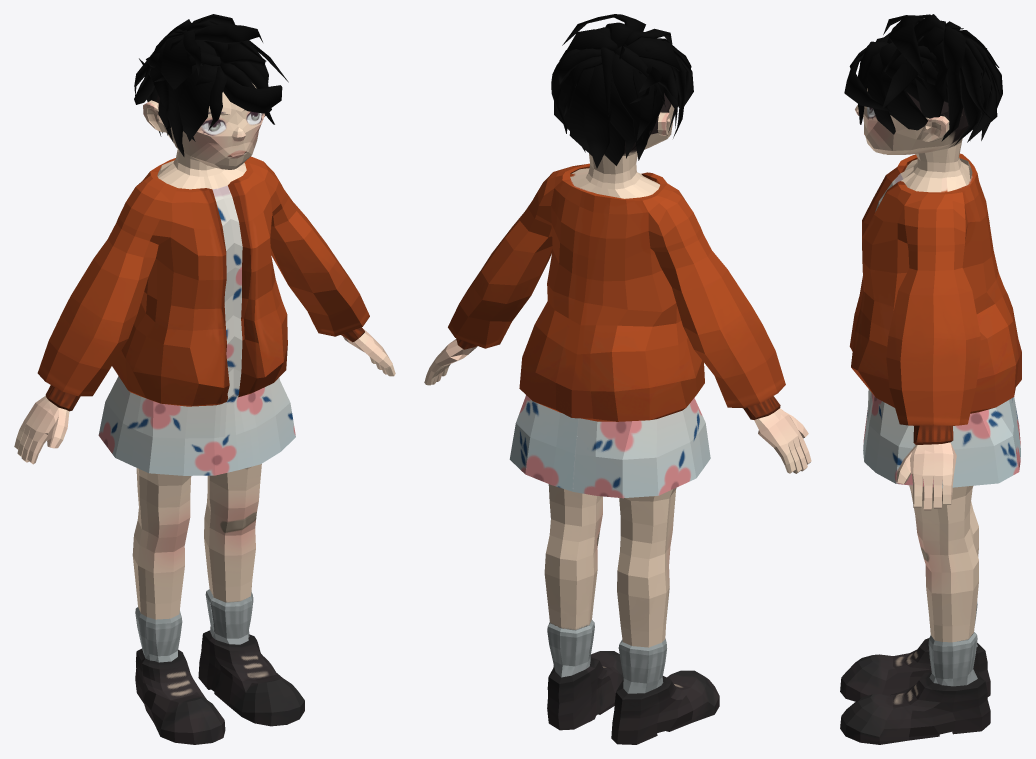
File: OurGirl.FBX
3 views of the same model, side by side, from view 1: azimuth 30°, elevation 25°; view 2: azimuth 150°, elevation 25°; view 3: azimuth 270°, elevation 25° (orthographic).
Visible parts, largest first — view 1: Girl, Hair; view 2: Girl, Hair; view 3: Girl, Hair.
Boxes of the visible parts, x1,y1,x2,y2 form: Girl: [14, 82, 395, 744]; Hair: [134, 14, 288, 156]; Girl: [424, 93, 811, 744]; Hair: [551, 14, 693, 168]; Girl: [840, 88, 1021, 744]; Hair: [844, 14, 1002, 145].
Size of the model in its own units: 42.12 by 74.86 by 17.82.
2 materials, 1 textured.
